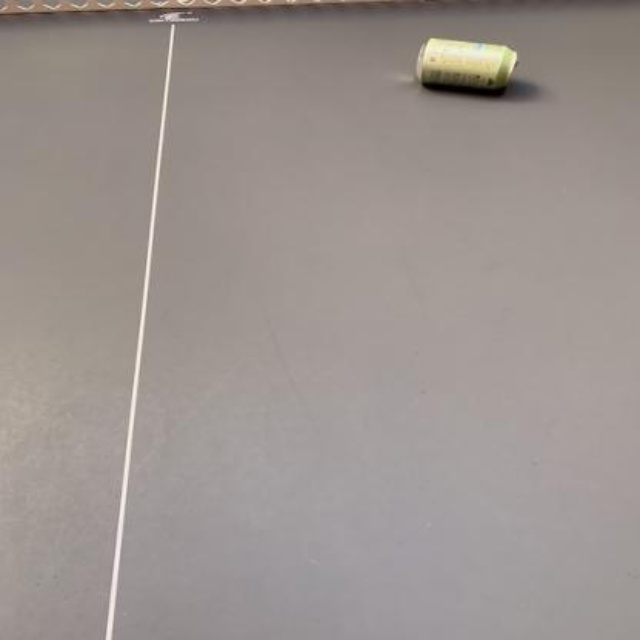trash: (417, 37, 515, 92)
